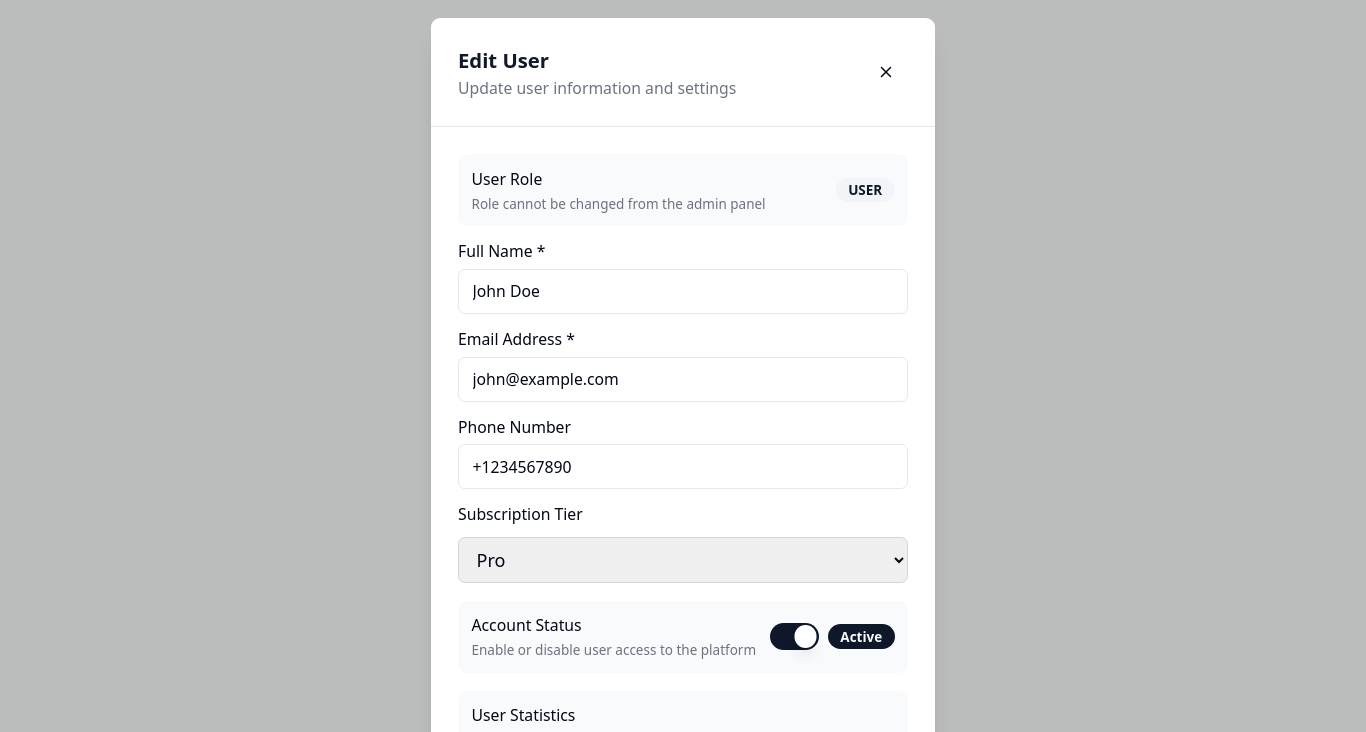
it: UserEditModal › validates required fields
This screenshot has width=1366, height=732.
Step 1. Clear the field showing "John Doe" → (683, 291), box [458,269,908,314]
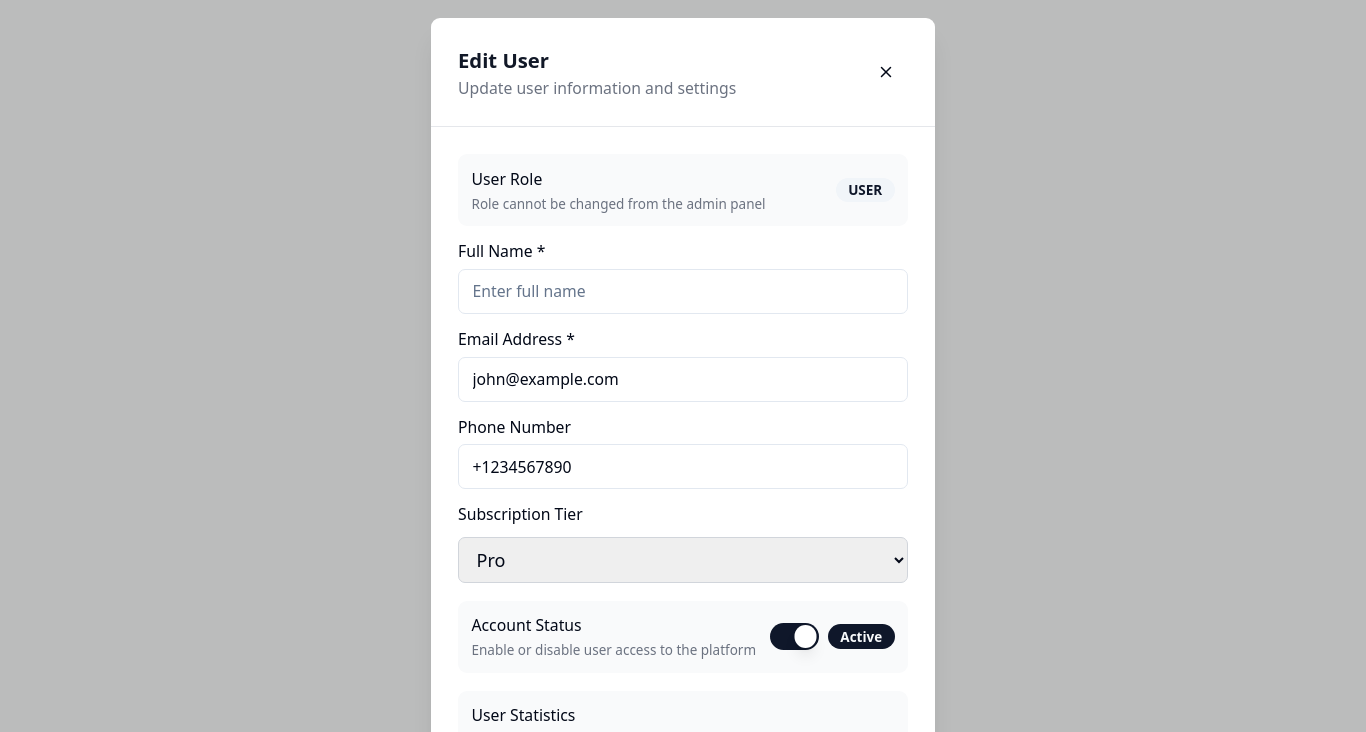
Step 2. Clear the field showing "john@example.com" → (683, 379), box [458,356,908,402]
(page scrolled)
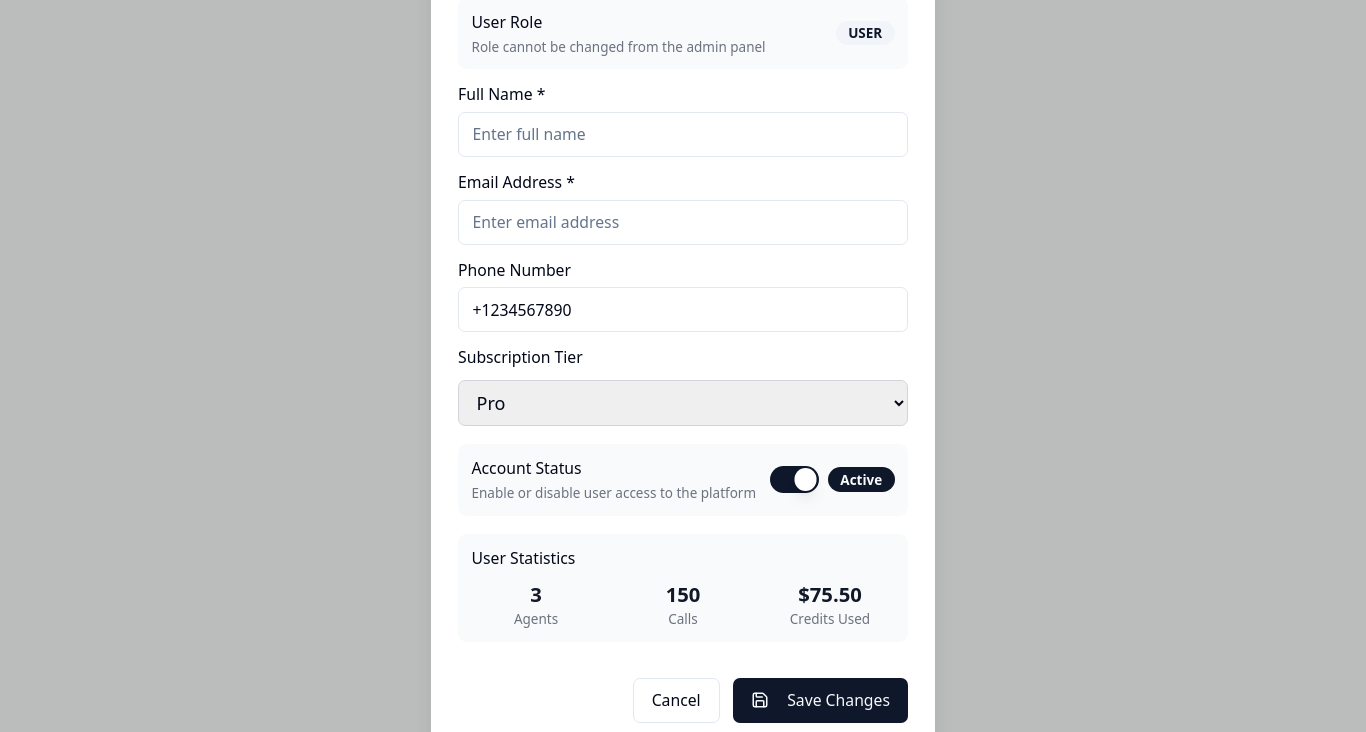
Note: Submit form
Step 3. Click the button "Save Changes" → (821, 700), box [733,678,908,722]
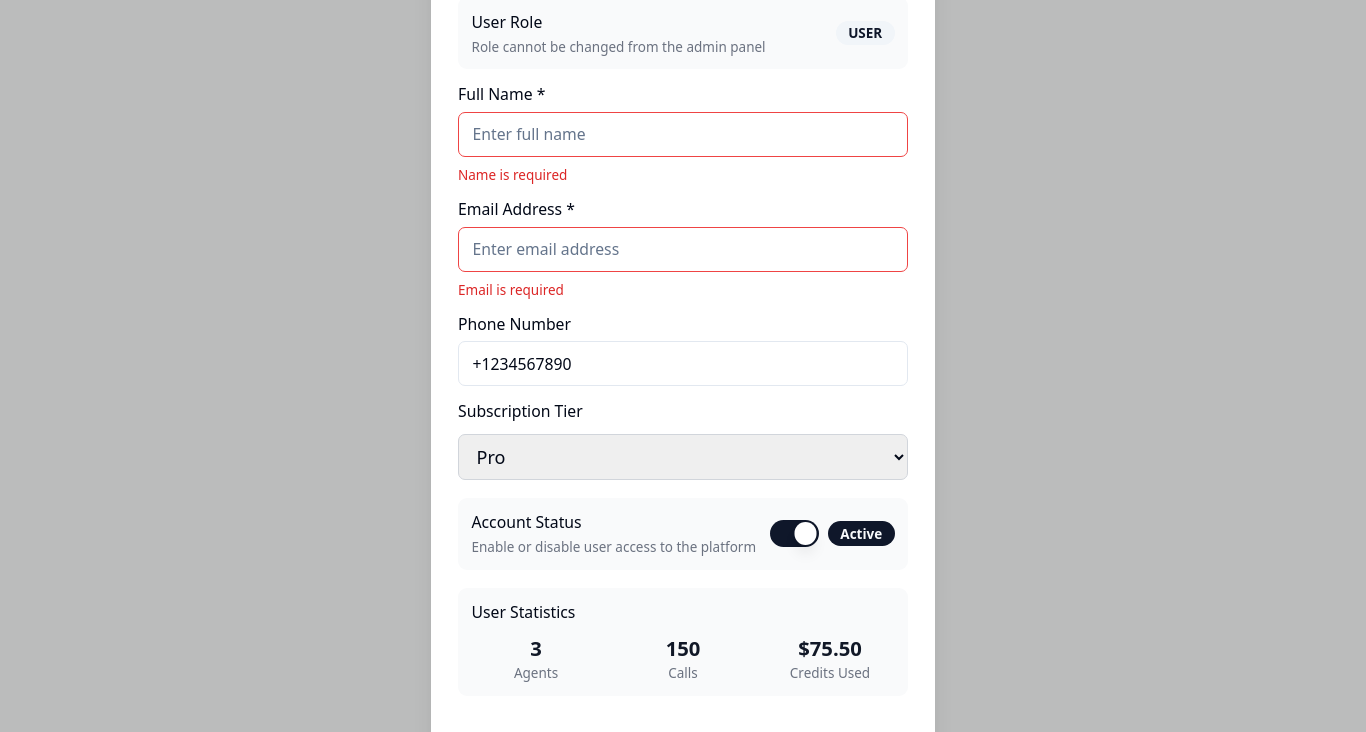
Now the text "Name is required" is shown, box [458,166,567,184]
Now the text "Email is required" is shown, box [458,280,564,298]
